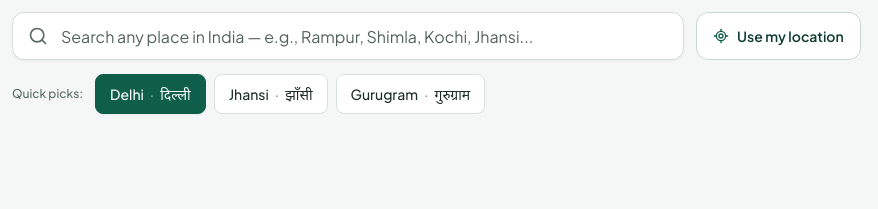
Test: CitySearch component › searches Indian places via mocked geocoding API, shows City, District, State, and supports keyboard selection
The image size is (878, 209).
Later steps or results of the test are not shown.
Type "Rampur" into the dropdown named "Search any city, town, or district in India" at (348, 36), box [12,12,684,60]
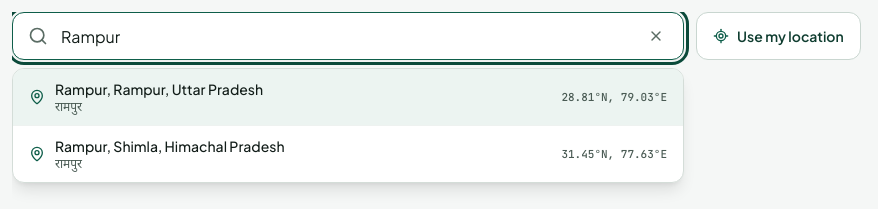
Expected: the text "Rampur, Shimla, Himachal Pradesh" is shown, [55,136,285,156]
Expected: the text "Rampur, Rampur, Uttar Pradesh" is shown, [55,79,263,99]
